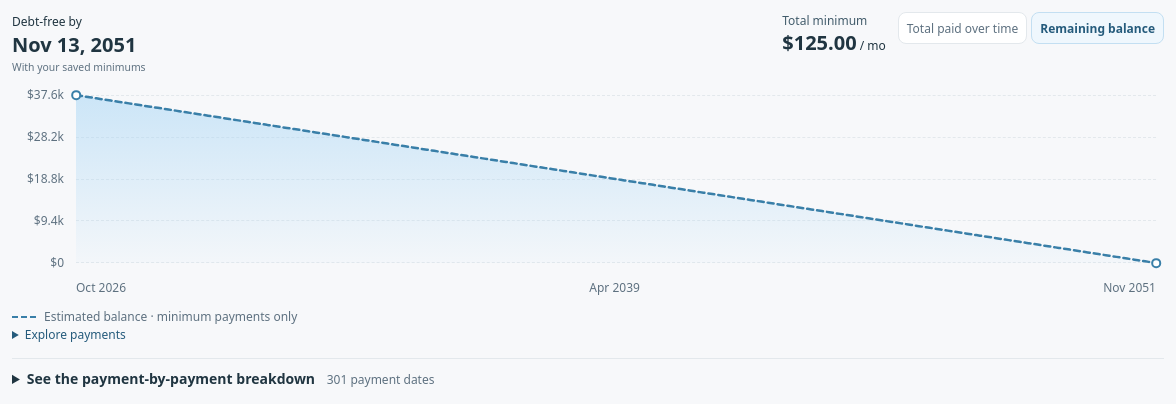
Test case: chart header › keeps a long-term payoff date and the combined minimum ahead of the chart switches
Expected: the text with test id "payoff-date" reads "Nov 13, 2051", [12,31,136,58]
Expected: the element with test id "chart-monthly-minimum" reads "$125.00 / mo", [782,29,886,57]
Click the button "Total paid over time" at (963, 28), box [898,12,1027,44]
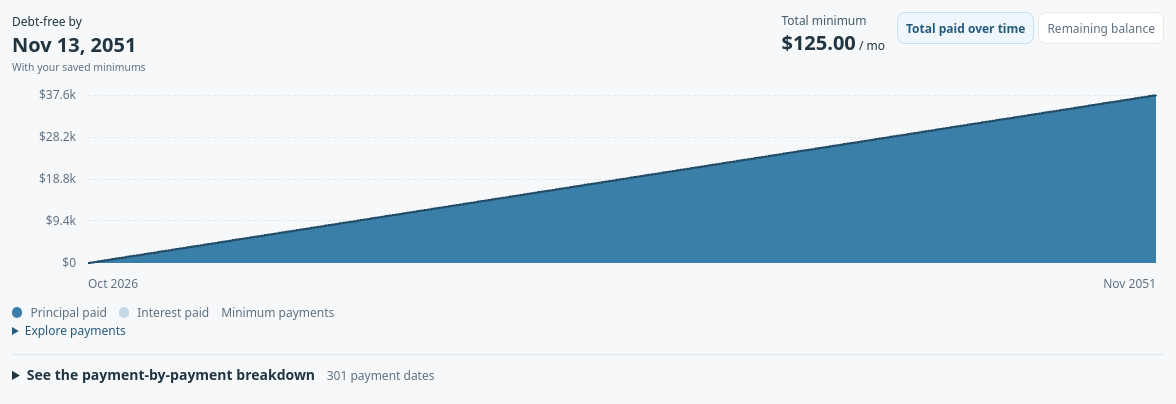
Expected: the text with test id "payoff-date" reads "Nov 13, 2051", [12,31,136,58]
Result: the element named "Projected payments over time" is shown at [12,95,1164,342]
